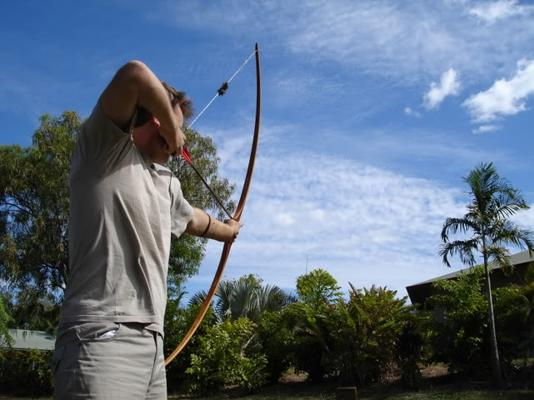person: (53, 61, 246, 400)
